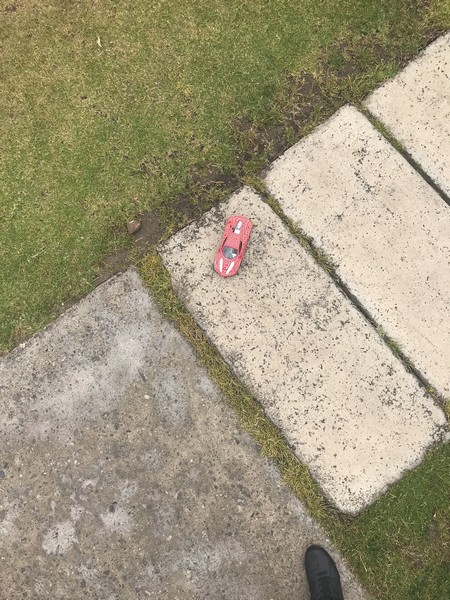RC: (213, 215, 255, 278)
